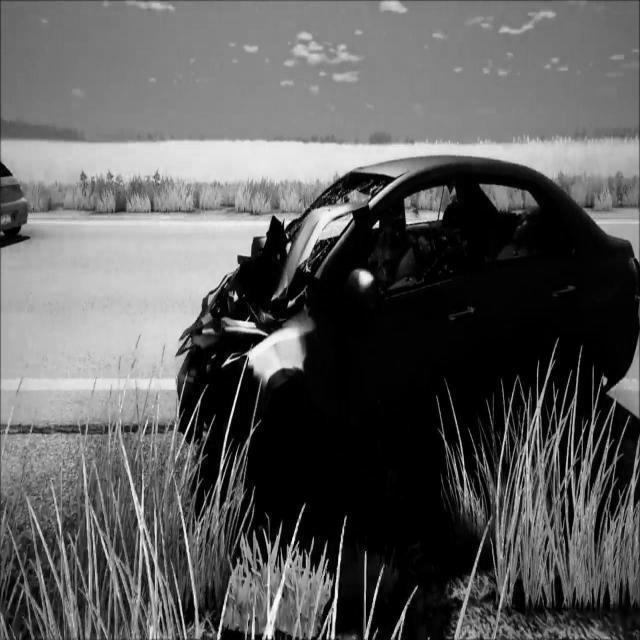accident: (172, 149, 640, 496)
vehicle: (1, 148, 35, 254)
